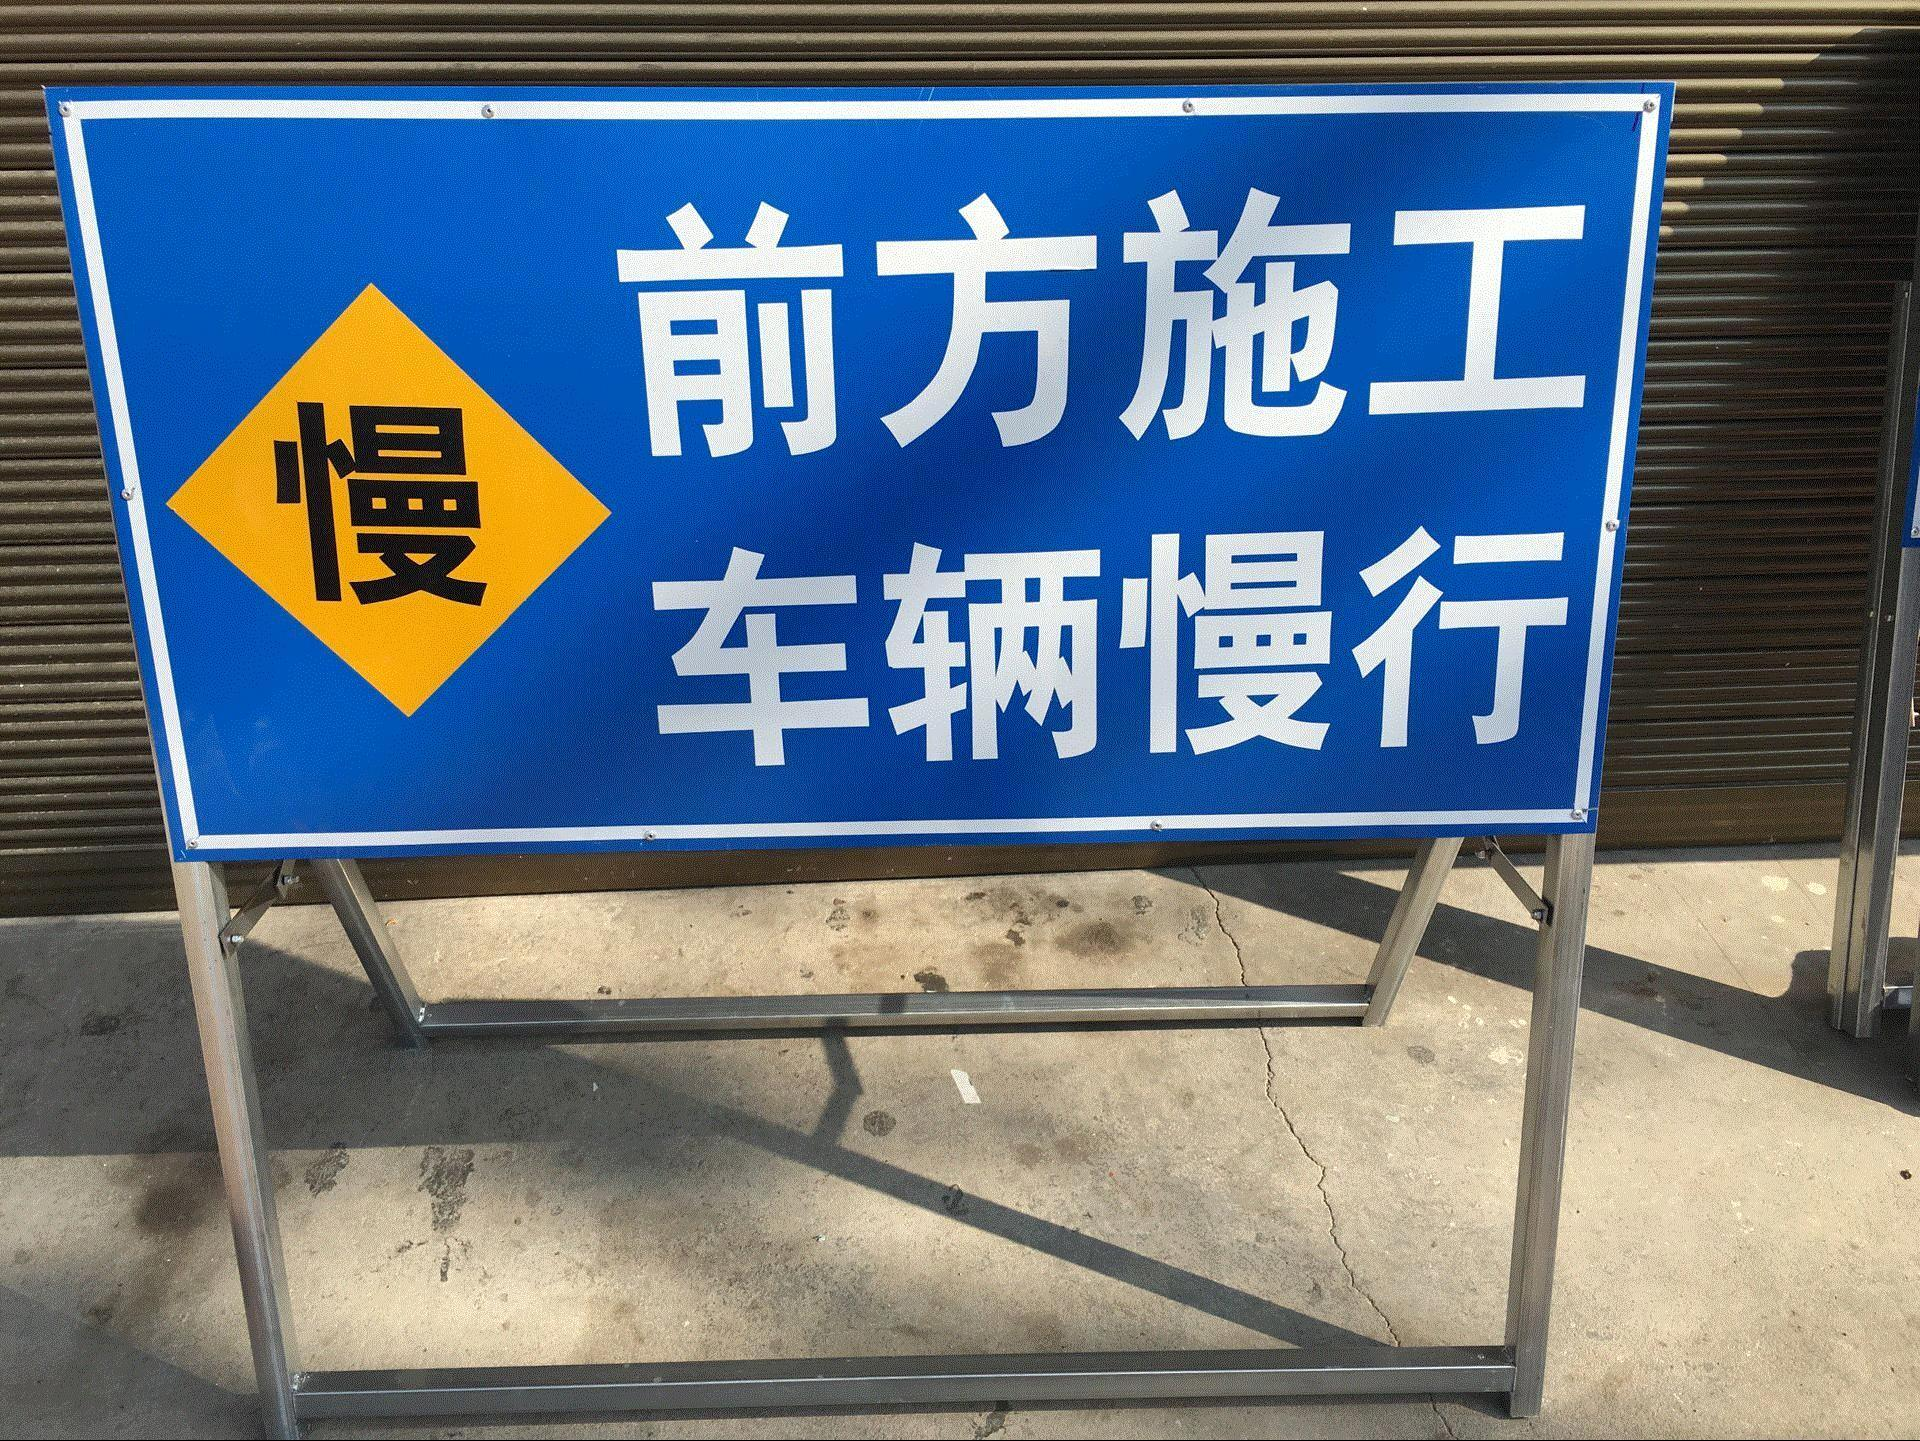sign: (54, 101, 1646, 851)
